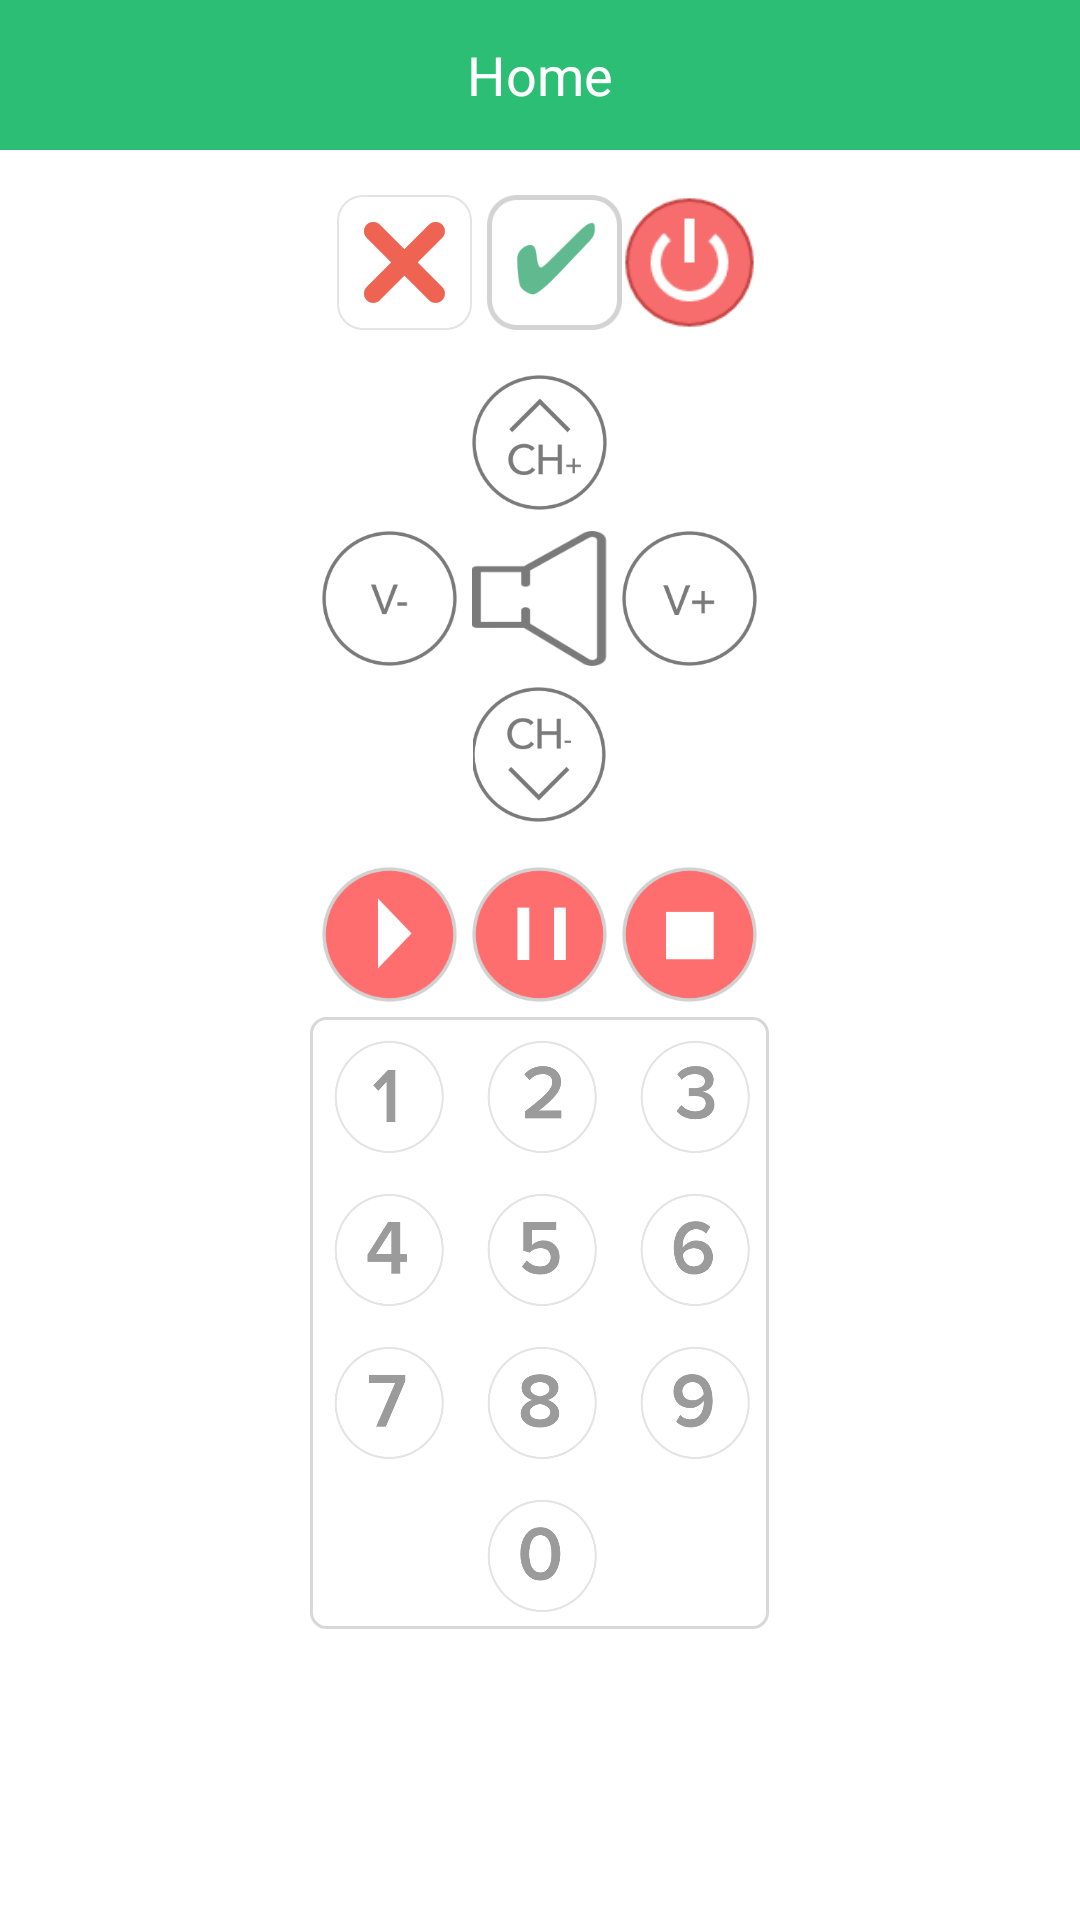

Icons on this 1080x1920 Android screen, each with its box as box(x1, y1, x2, y2):
cancel: box(337, 195, 472, 330)
check: box(487, 195, 622, 330)
pause: box(472, 867, 607, 1002)
play: box(322, 867, 457, 1002)
power: box(625, 198, 754, 327)
stop: box(622, 867, 757, 1002)
toggle mute: box(472, 531, 607, 666)
